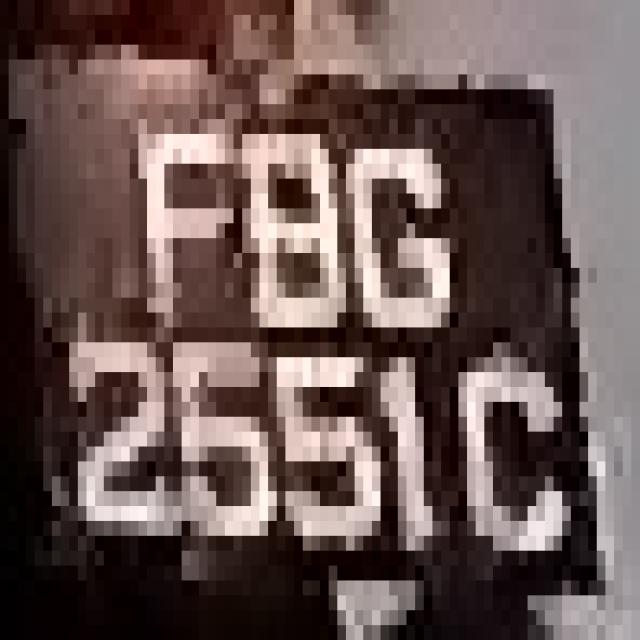1: (371, 297, 458, 640)
2: (60, 282, 164, 550)
5: (156, 312, 285, 550), (276, 282, 381, 566)
B: (233, 90, 354, 358)
C: (450, 312, 562, 596)
F: (121, 90, 242, 358)
G: (346, 89, 450, 417)
